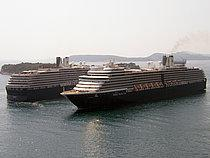Ship: (59, 61, 210, 118)
